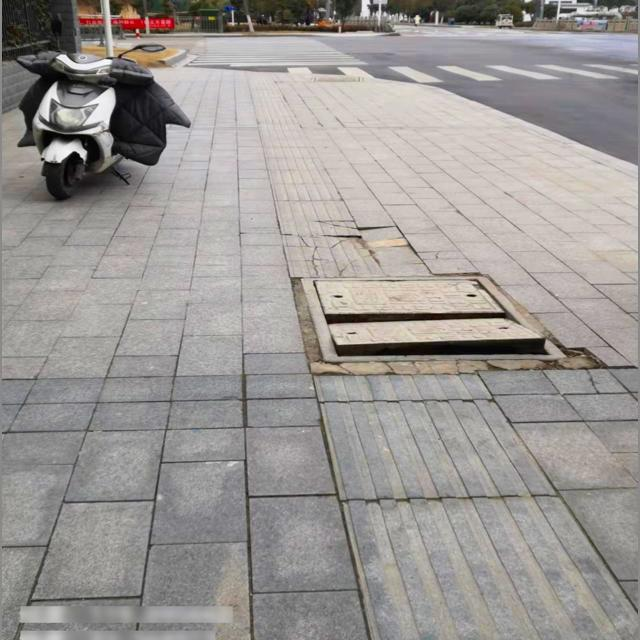uncovered: (297, 272, 567, 367)
